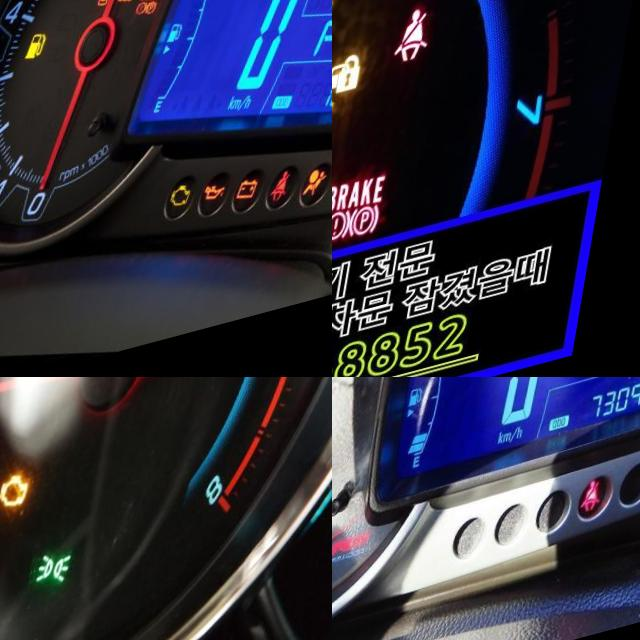Doors: (100, 0, 126, 18)
Engine cooling system: (122, 0, 151, 17)
Low fuel level: (34, 37, 58, 70)
SideLamp: (46, 562, 86, 604)
